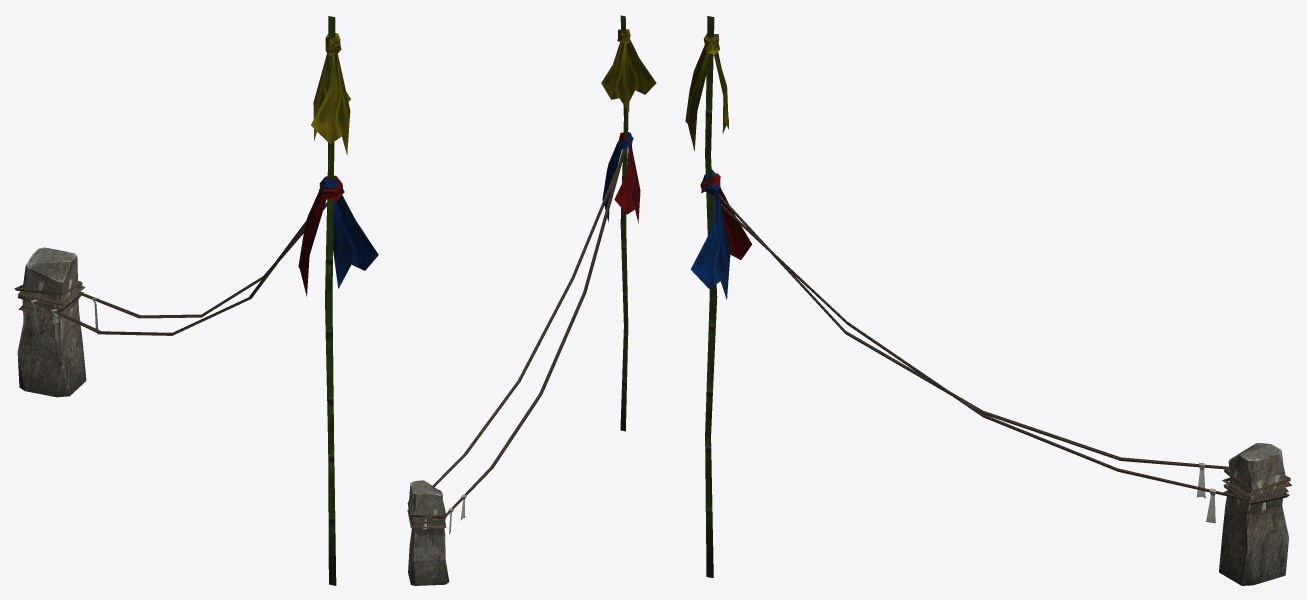
The model's file is shrine_10.glb.
The picture shows the model from 3 angles, left to right: view 1: azimuth 30°, elevation 25°; view 2: azimuth 150°, elevation 25°; view 3: azimuth 270°, elevation 25°; orthographic projection. The views are drawn at different scales.
Parts seen in each view (by area): view 1: qw; view 2: qw; view 3: qw.
Boxes of the visible parts, bbox=[...] form: qw: bbox=[14, 16, 378, 585]; qw: bbox=[407, 15, 656, 585]; qw: bbox=[685, 16, 1291, 585].
Size of the model in its own units: 1.92 by 14.29 by 14.02.
1 material, 1 textured.
